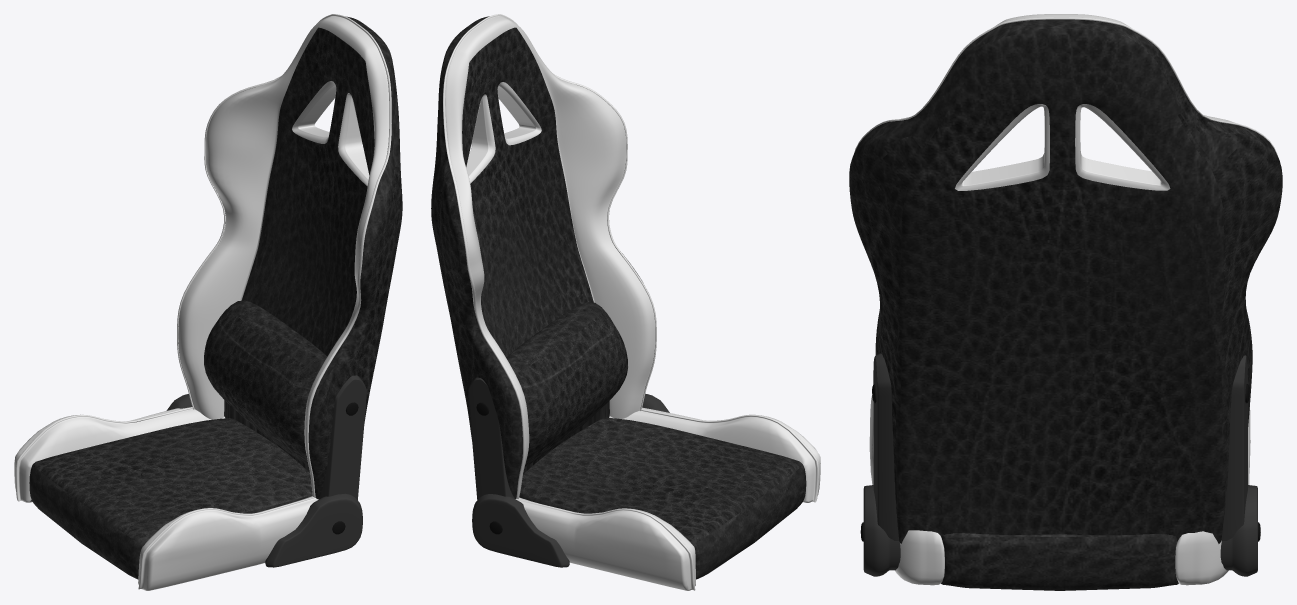
The model's file is kreslo (5).fbx.
3 renders of one model, left to right at view 1: azimuth 30°, elevation 25°; view 2: azimuth 150°, elevation 25°; view 3: azimuth 270°, elevation 25°, orthographic. The views are drawn at different scales.
Visible parts, largest first — view 1: FGG Gaming Chair.Shape; view 2: FGG Gaming Chair.Shape; view 3: FGG Gaming Chair.Shape.
Boxes of the visible parts, x1,y1,x2,y2 form: FGG Gaming Chair.Shape: [14, 14, 402, 590]; FGG Gaming Chair.Shape: [431, 14, 820, 590]; FGG Gaming Chair.Shape: [849, 14, 1282, 590].
Bounding box in the file's own units: 193 × 290 × 183.
4 materials, 1 textured.
